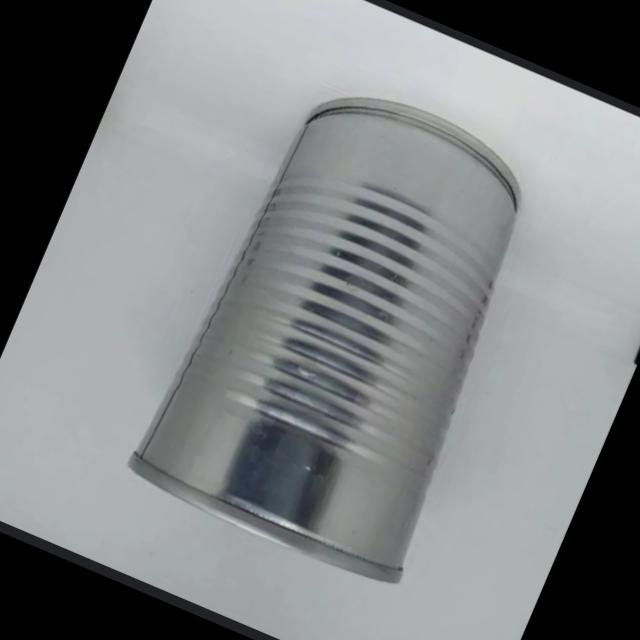Kaleng: (120, 58, 574, 596)
